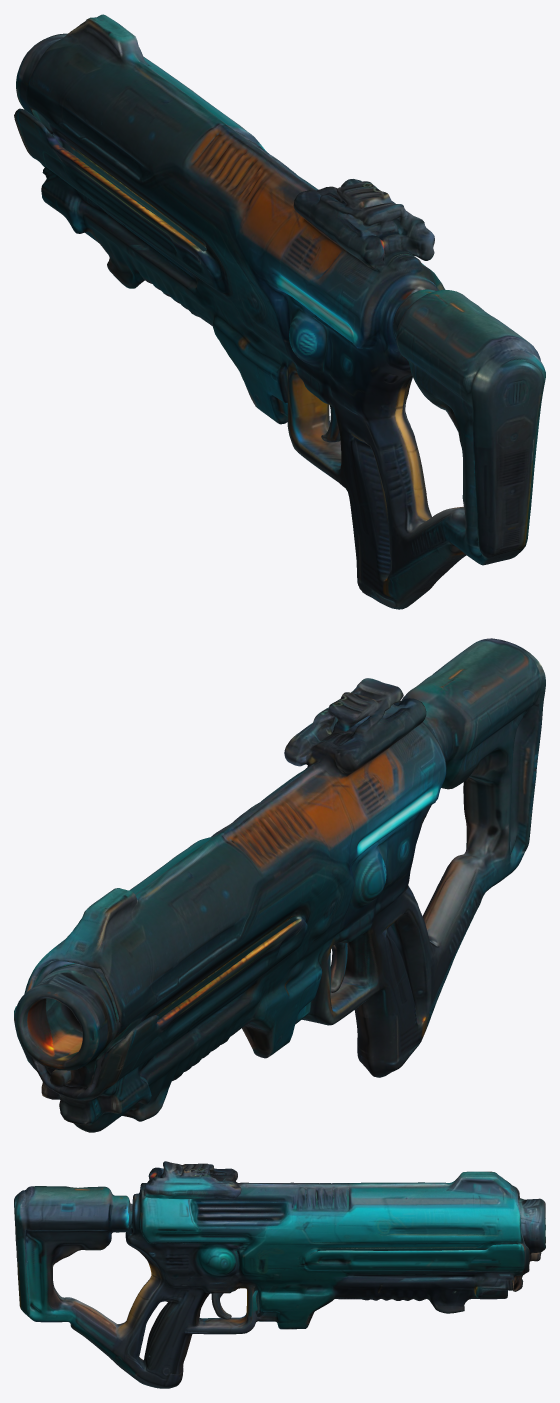
Rendered from MagneticGun.fbx.
The picture shows the model from 3 angles, top to bottom: view 1: azimuth 30°, elevation 25°; view 2: azimuth 150°, elevation 25°; view 3: azimuth 270°, elevation 25°; orthographic projection. The views are drawn at different scales.
Parts seen in each view (by area): view 1: Mesh_0; view 2: Mesh_0; view 3: Mesh_0.
Boxes of the visible parts, left/top/right/bottom form: Mesh_0: left=14, top=14, right=545, bottom=609; Mesh_0: left=14, top=638, right=545, bottom=1132; Mesh_0: left=14, top=1161, right=545, bottom=1388.
Bounding box in the file's own units: 29.34 × 93.56 × 200.
1 material, 1 textured.
